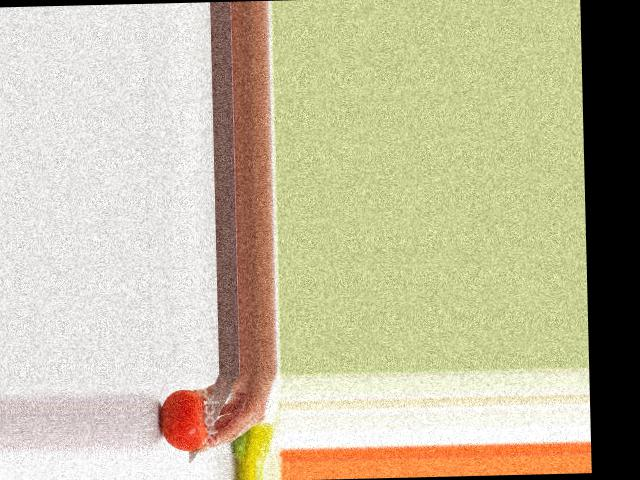tomato: (158, 387, 208, 451)
